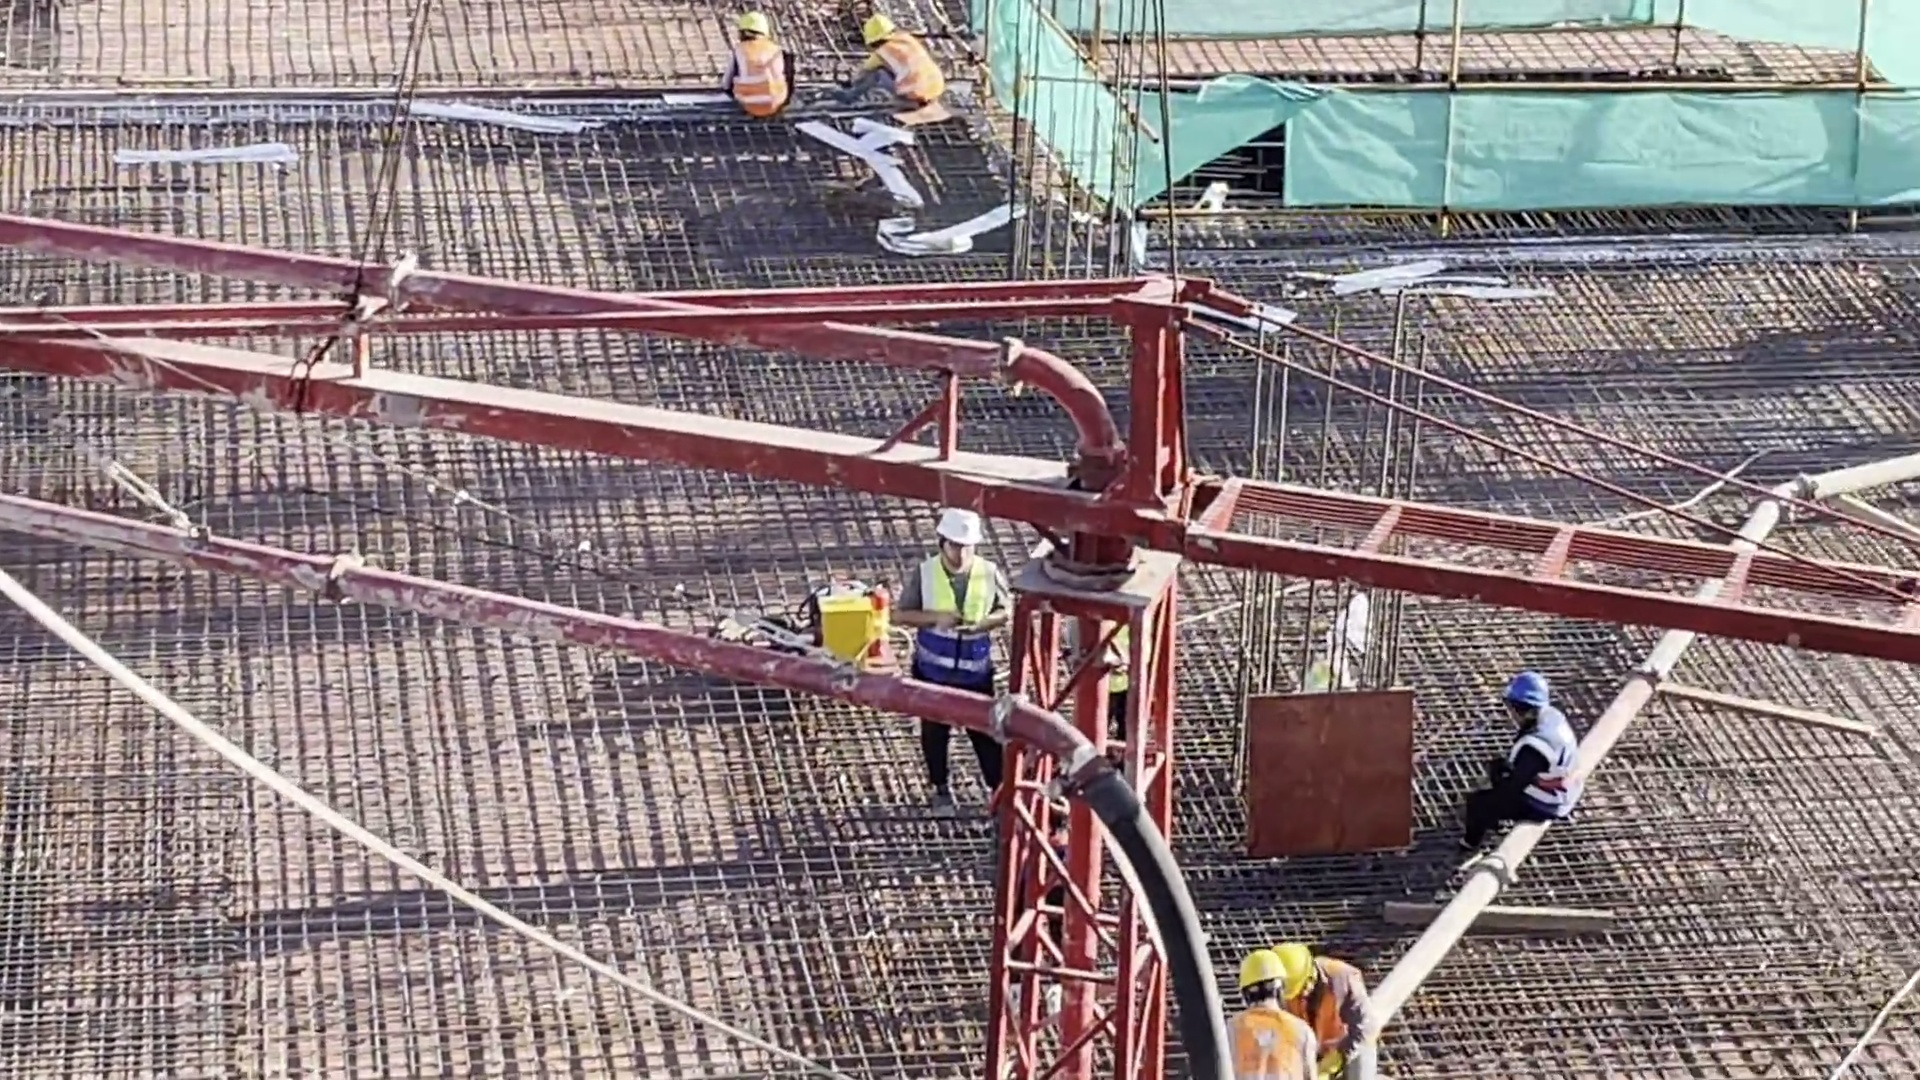helmet: (1275, 939, 1311, 996), (938, 510, 985, 551), (1234, 952, 1285, 990), (1502, 673, 1549, 712), (731, 10, 765, 33), (857, 15, 885, 42)
person: (907, 493, 1028, 828), (1466, 671, 1586, 858), (1271, 939, 1373, 1080), (1226, 946, 1319, 1080), (838, 20, 944, 123), (721, 9, 792, 121)
vest: (924, 567, 992, 697), (1517, 720, 1580, 813), (1293, 971, 1365, 1054), (1239, 1010, 1296, 1080), (734, 40, 786, 113), (886, 40, 940, 106)
